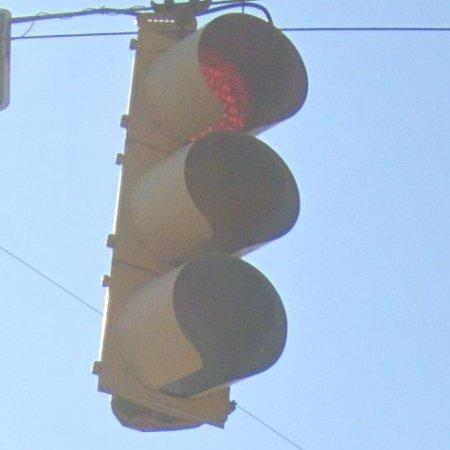traffic lights: (95, 0, 309, 432)
